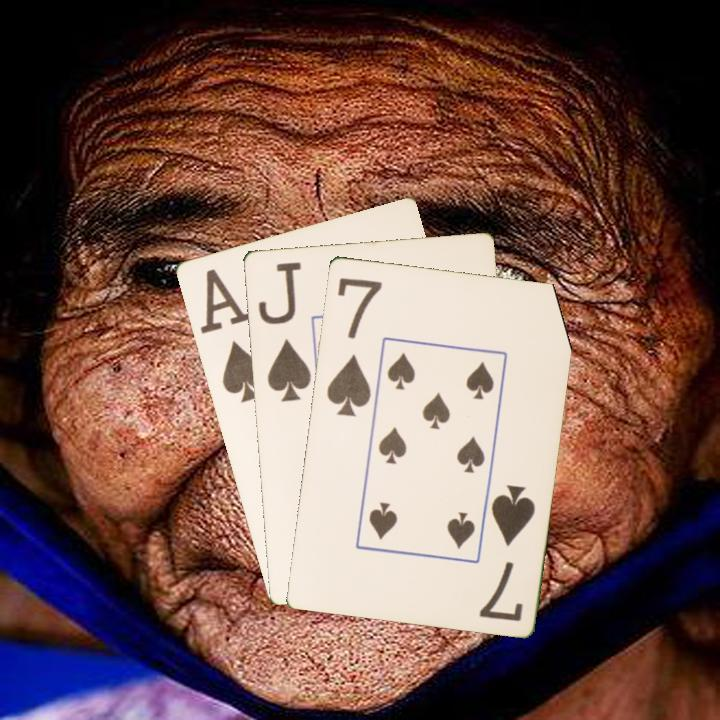7s: (322, 273, 385, 419), (475, 480, 538, 624)
As: (208, 278, 269, 406)
Js: (254, 258, 314, 404)
